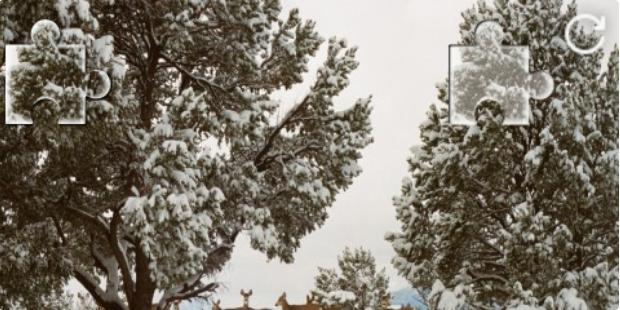target: (448, 20, 555, 126)
